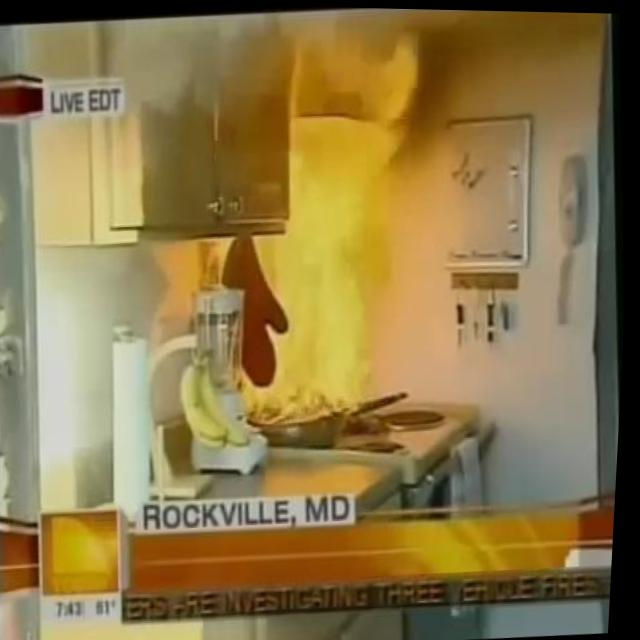fire: (190, 30, 444, 430)
